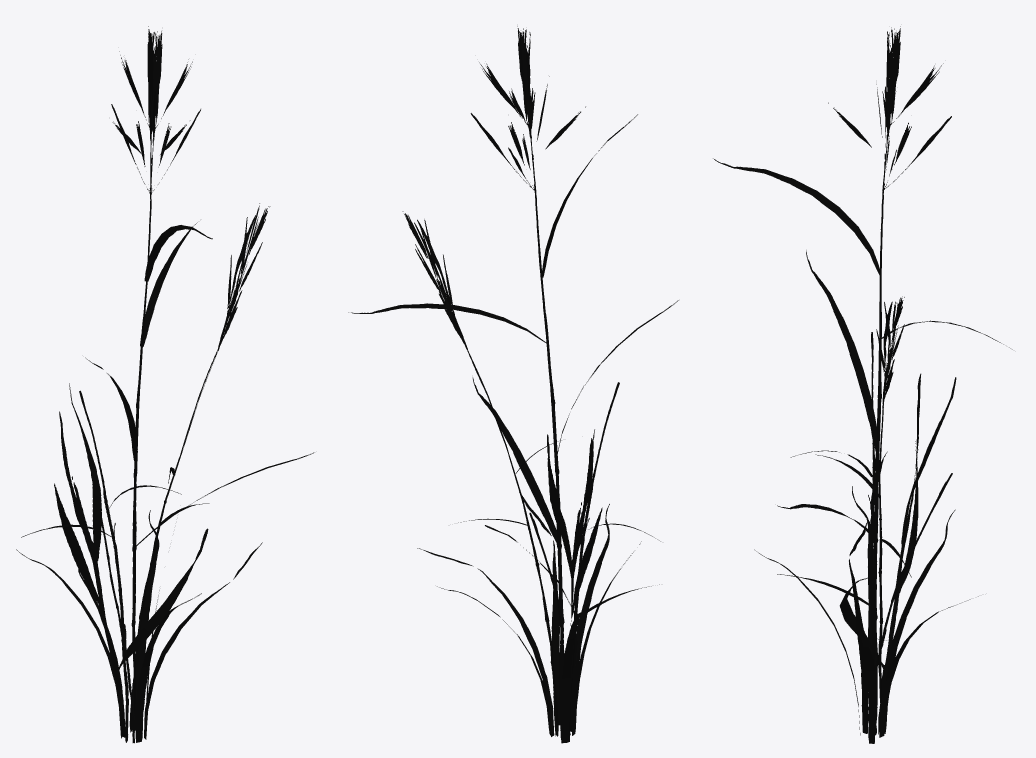
File: wheat-opt.glb
3 renders of one model, left to right at view 1: azimuth 30°, elevation 25°; view 2: azimuth 150°, elevation 25°; view 3: azimuth 270°, elevation 25°, orthographic. The views are drawn at different scales.
Visible parts, largest first — view 1: SM_APV2_Wheat; view 2: SM_APV2_Wheat; view 3: SM_APV2_Wheat.
Part boxes in pixels (left/top/right/bottom): SM_APV2_Wheat: left=16, top=26, right=314, bottom=743; SM_APV2_Wheat: left=348, top=26, right=678, bottom=743; SM_APV2_Wheat: left=713, top=26, right=1012, bottom=743.
Size of the model in its own units: 0.6104 by 1.6 by 0.6109.
1 material, 1 textured.
